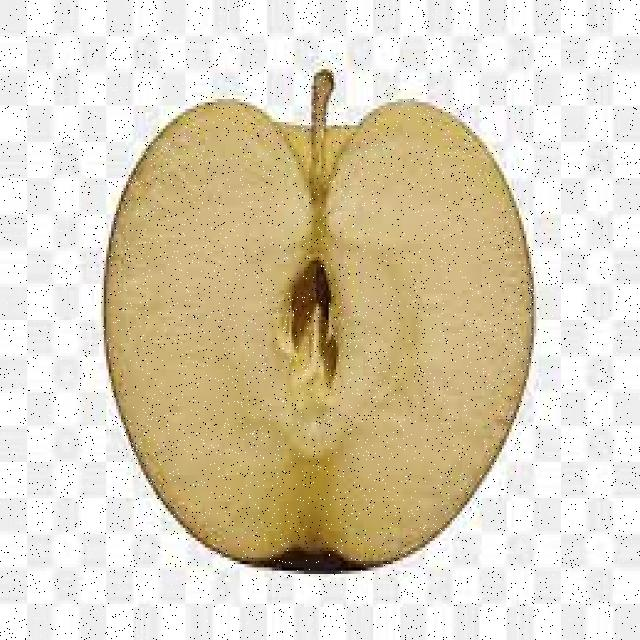Apple: (101, 99, 536, 572)
